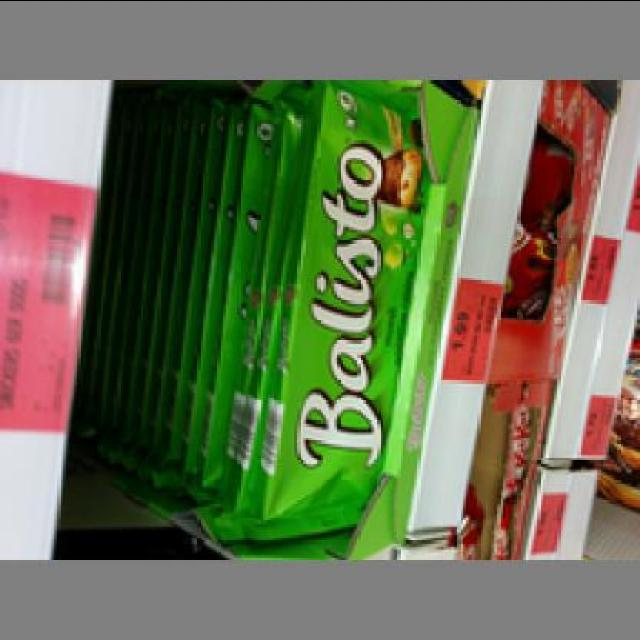Chocolate bar: (231, 83, 440, 546)
